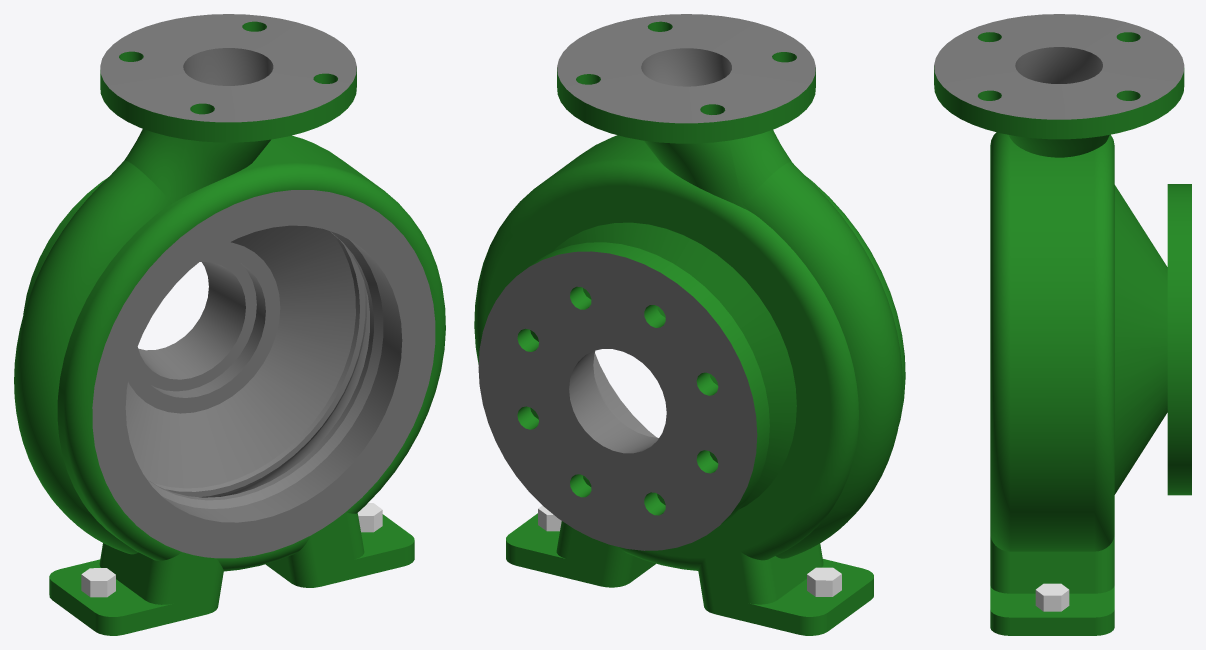
File: Spiralgehause_pos.obj
The picture shows the model from 3 angles, left to right: view 1: azimuth 30°, elevation 25°; view 2: azimuth 150°, elevation 25°; view 3: azimuth 270°, elevation 25°; orthographic projection. The views are drawn at different scales.
Visible parts, largest first — view 1: Volumenkörper1; view 2: Volumenkörper1; view 3: Volumenkörper1.
Boxes of the visible parts, bbox=[...] form: Volumenkörper1: bbox=[14, 14, 445, 635]; Volumenkörper1: bbox=[474, 14, 905, 635]; Volumenkörper1: bbox=[934, 14, 1191, 635].
Size of the model in its own units: 0.3313 by 0.4035 by 0.1904.
